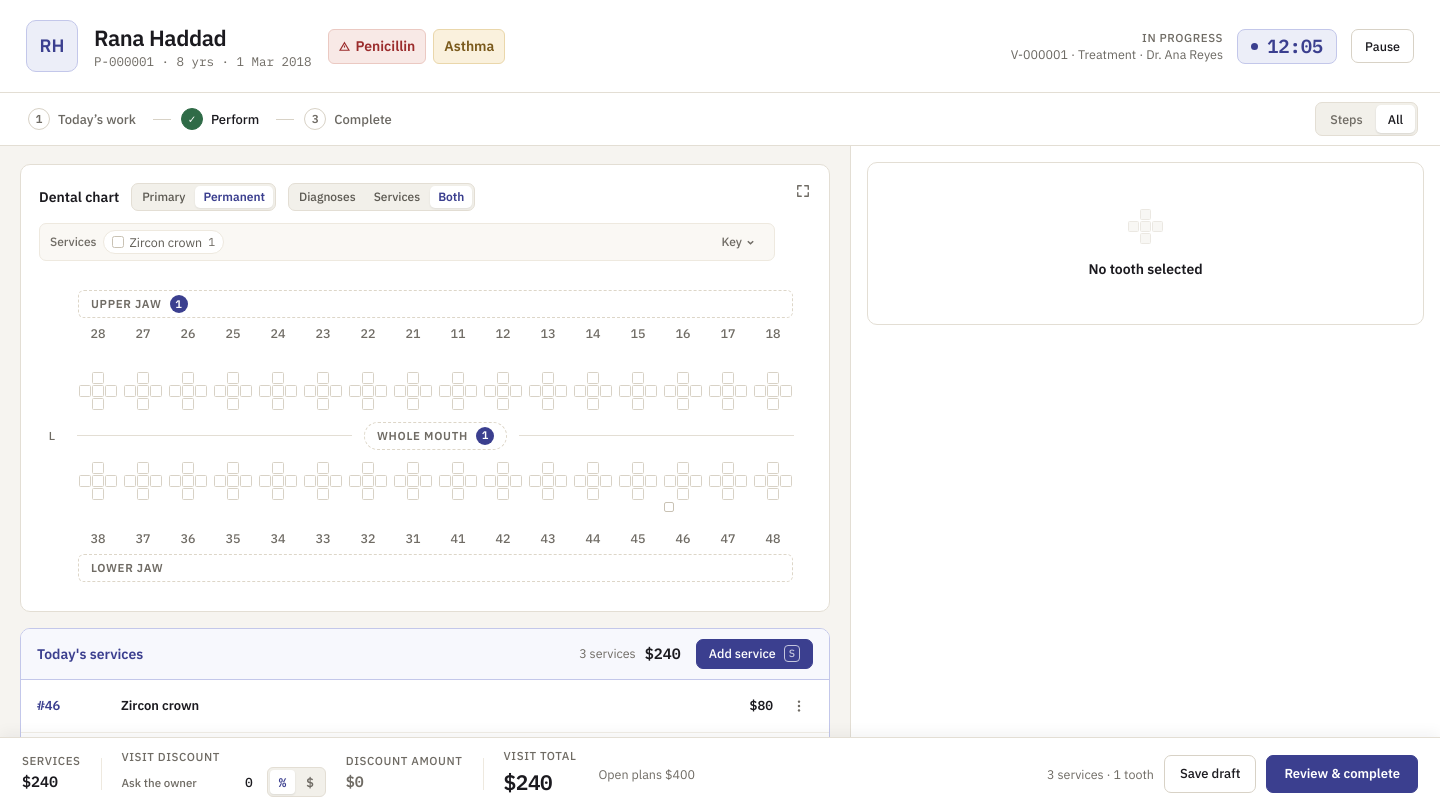
Test: Today’s services and the chart’s jaw and whole-mouth areas › the chart selects a jaw or the whole mouth; the panel shows that level and its tabs
This screenshot has width=1440, height=810.
Check: the element named "Upper arch" is shown, box top-left (78, 324), bottom-right (793, 411)
Check: the 4th text "1" is shown, box top-left (476, 427), bottom-right (494, 445)
Click the button "Whole mouth 1": click(436, 436) top-left (364, 422), bottom-right (507, 450)
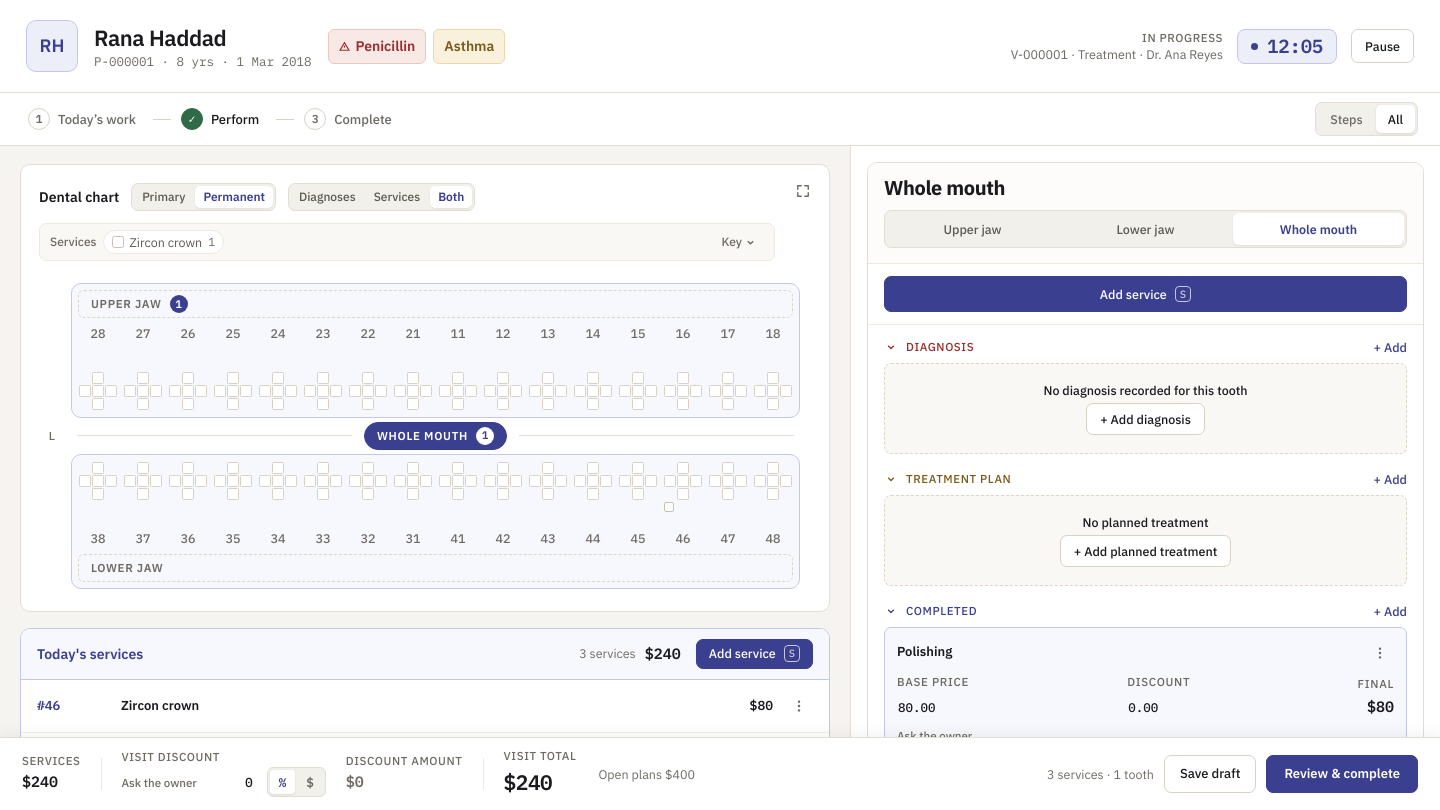
Check: the heading "Whole mouth" is shown, box top-left (884, 174), bottom-right (1005, 201)
Check: the text "Polishing" is shown, box top-left (897, 644), bottom-right (952, 661)
Check: the field labelled "Base price" is shown, box top-left (897, 692), bottom-right (1119, 722)
The panel's tabs move between the three levels.
Click the 1st button "Lower jaw": click(1146, 229) top-left (1060, 213), bottom-right (1231, 245)
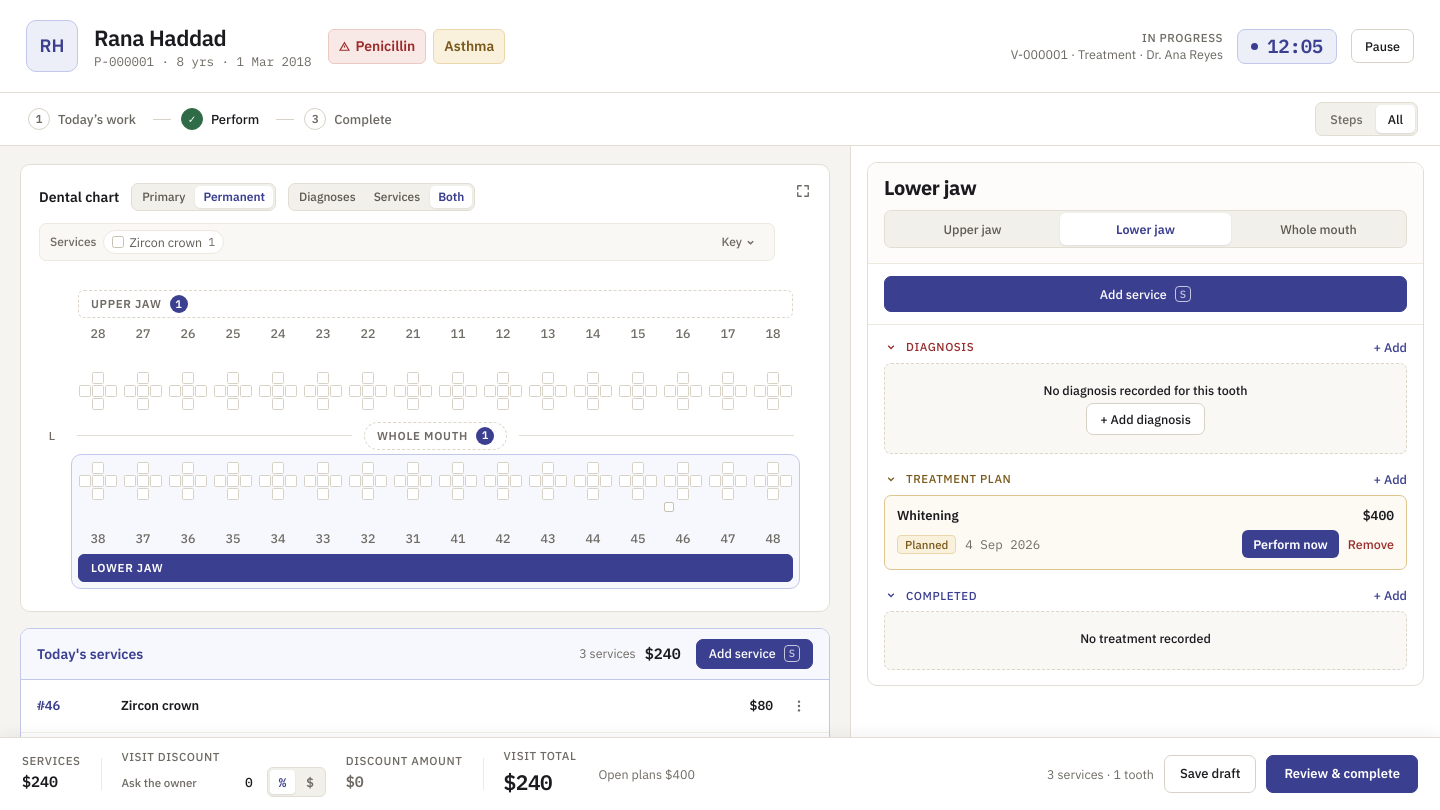
Check: the button with aria-label "Perform now: Whitening" is shown, box top-left (1242, 530), bottom-right (1339, 558)
Click the button named "#16 · ": click(683, 367) top-left (663, 324), bottom-right (703, 411)
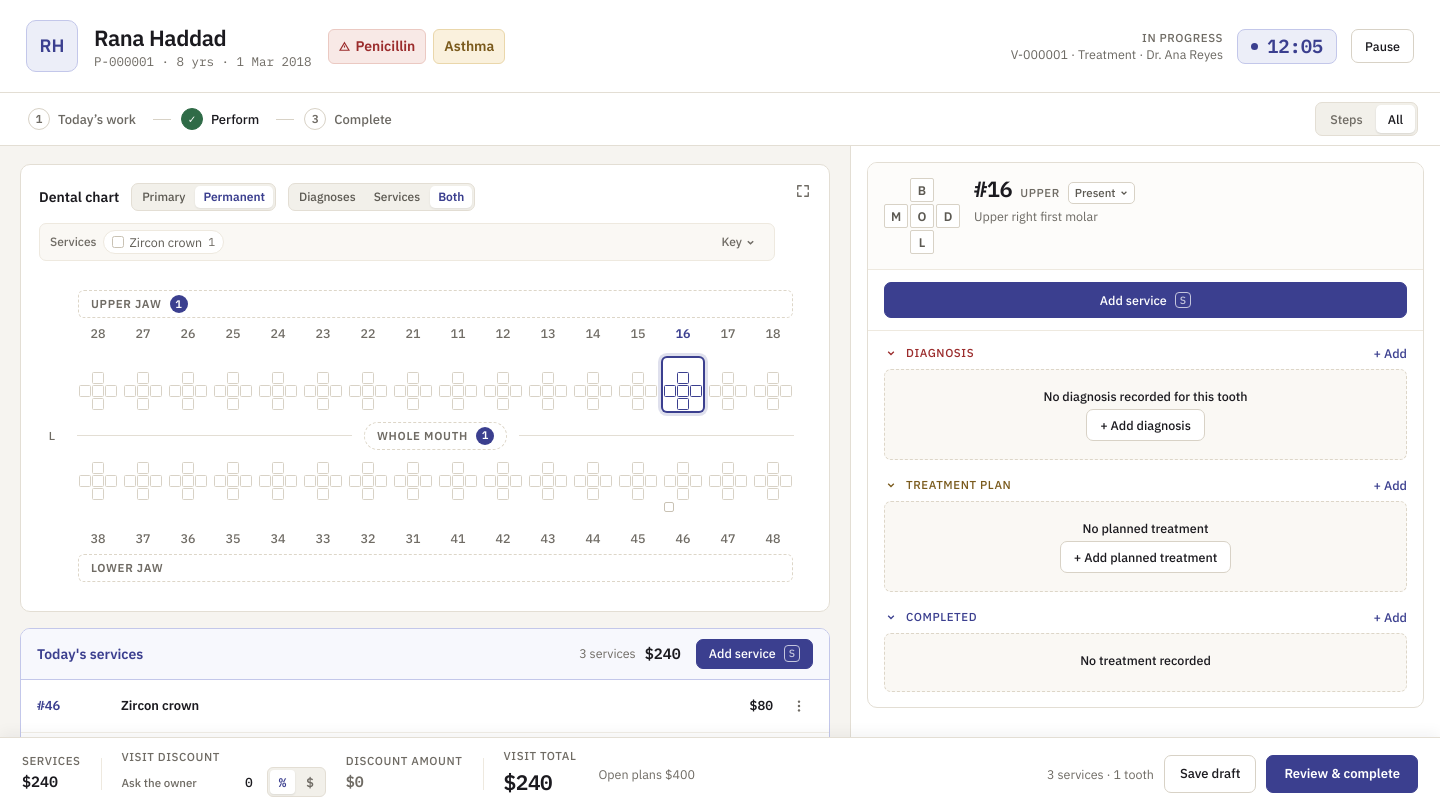
Check: the heading "#16" is shown, box top-left (974, 178), bottom-right (1012, 200)
Click the button "Upper jaw 1": click(126, 304) top-left (78, 290), bottom-right (793, 318)
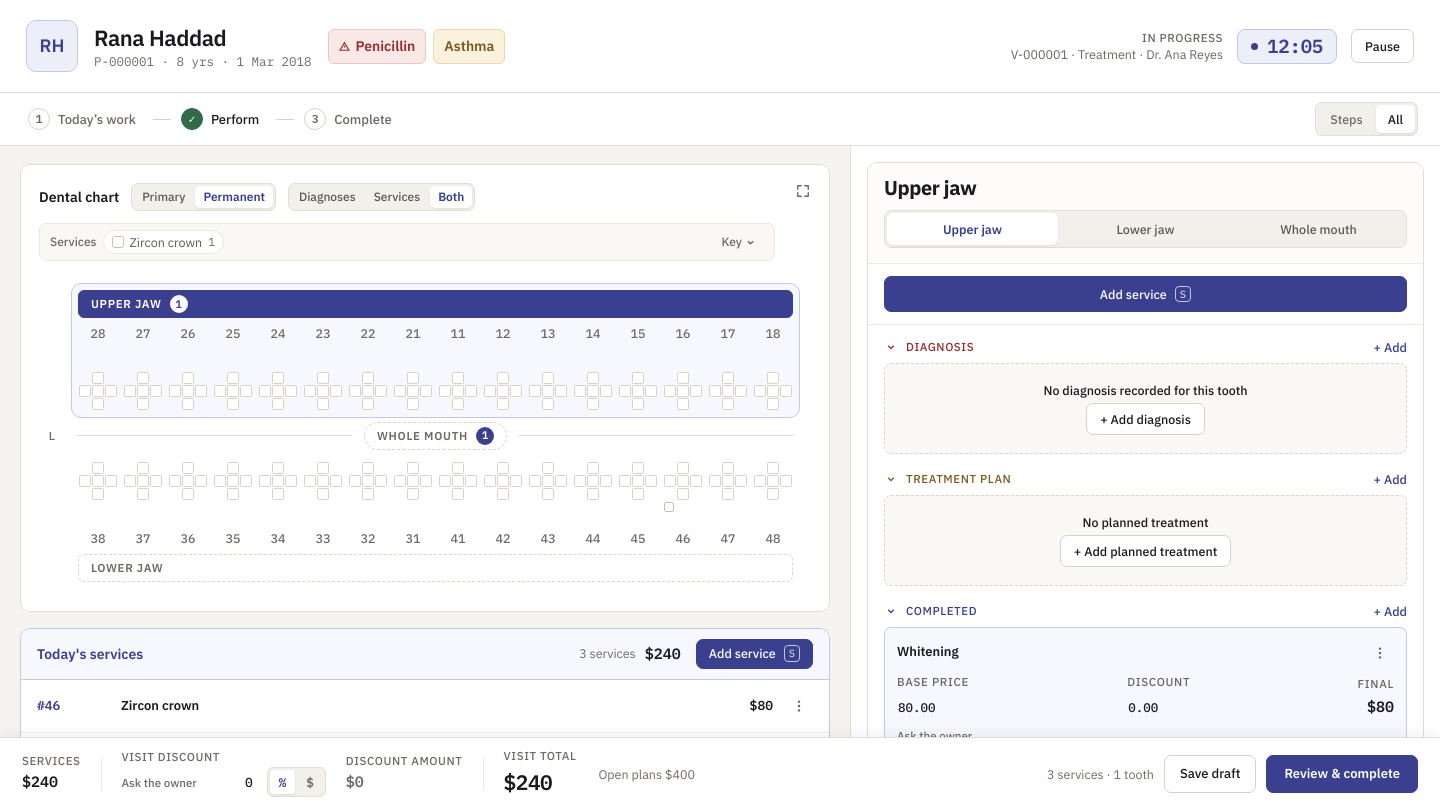
Press Escape
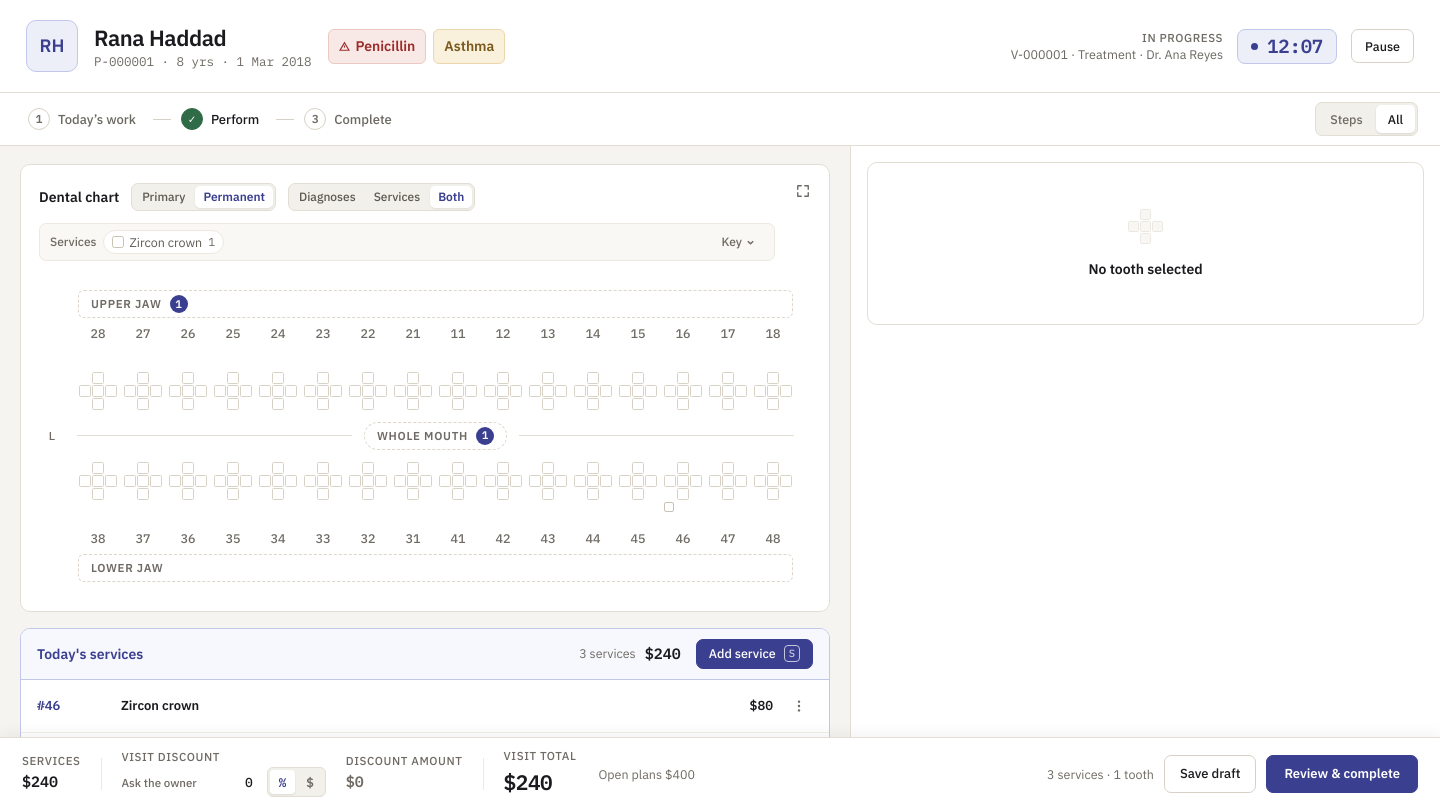
Check: the heading "No tooth selected" is shown, box top-left (1088, 260), bottom-right (1203, 278)
